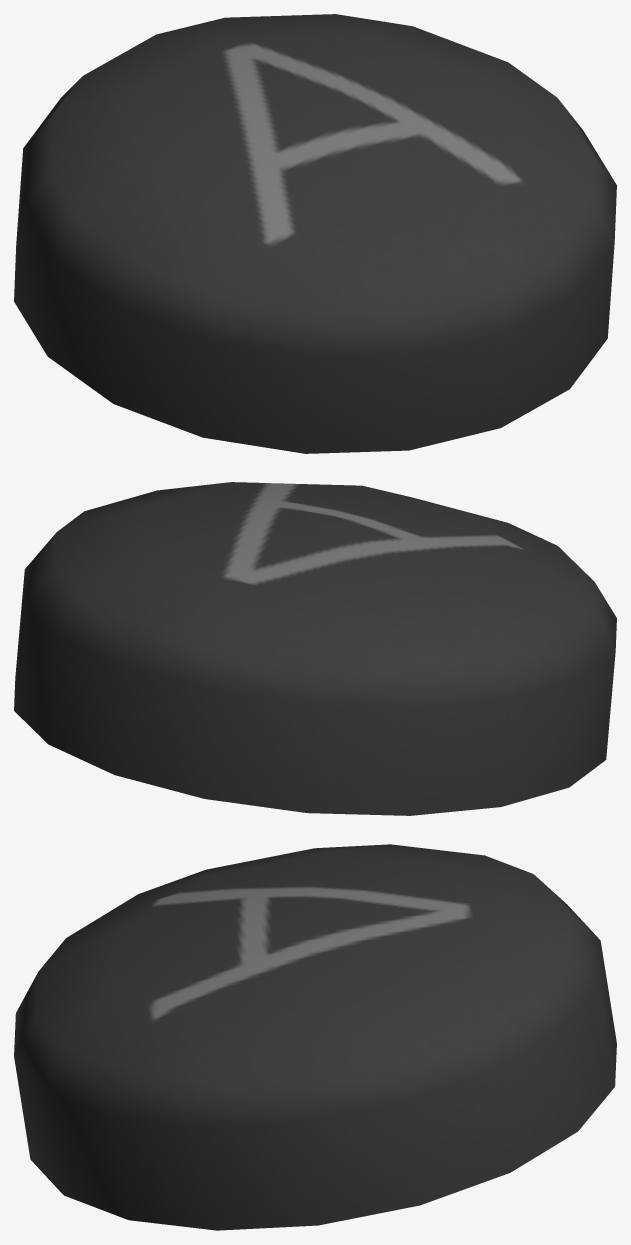
The model's file is oculus_quest_controller_right_buttonA.obj.
3 renders of one model, top to bottom at view 1: azimuth 30°, elevation 25°; view 2: azimuth 150°, elevation 25°; view 3: azimuth 270°, elevation 25°, orthographic.
Size of the model in its own units: 0.0105 by 0.00445 by 0.0106.
